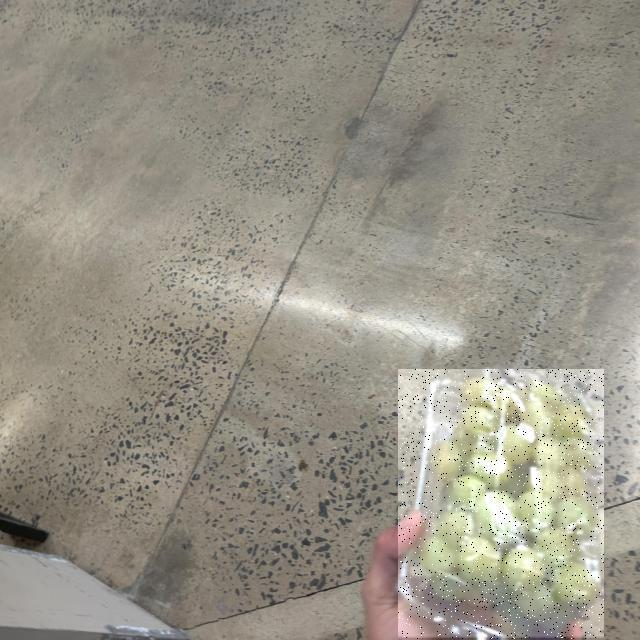Grapes: (398, 370, 604, 640)
